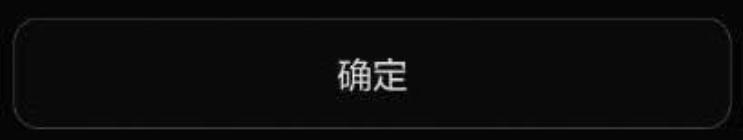Button: (1, 1, 742, 139)
